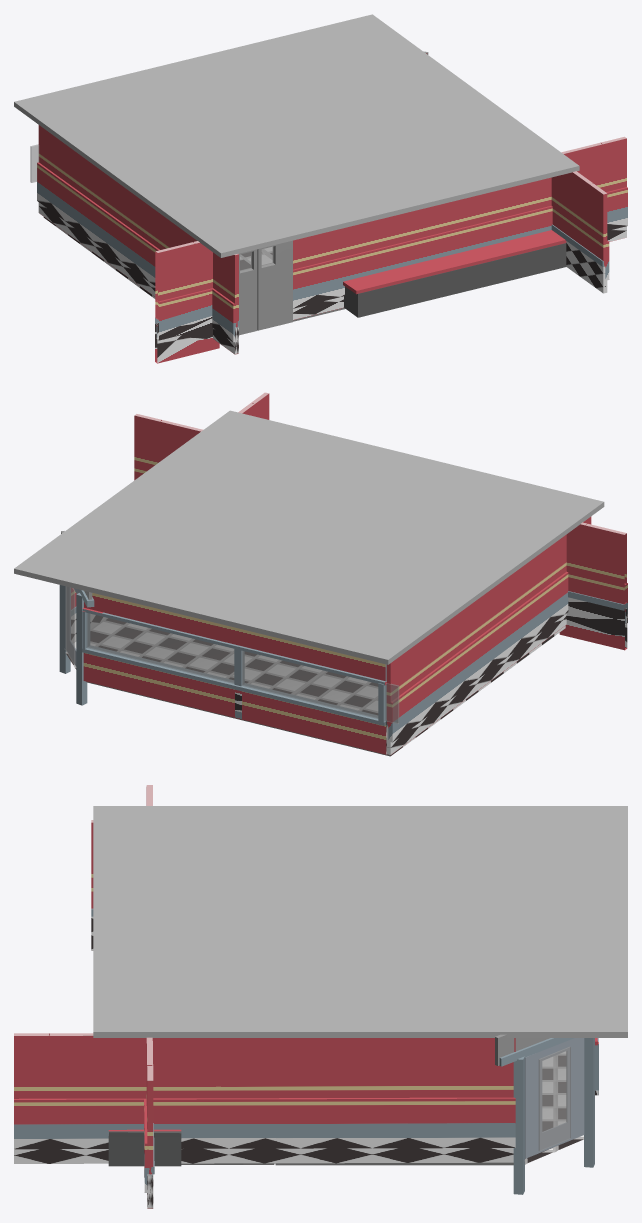
File: Diner Day 1.fbx
3 views of the same model, one above another, from view 1: azimuth 30°, elevation 25°; view 2: azimuth 150°, elevation 25°; view 3: azimuth 270°, elevation 25° (orthographic). The views are drawn at different scales.
Parts seen in each view (by area): view 1: pPlane6, pCube66, pCube24, pCube29, pCube67, pCube68, pCube32, pCube72, pPlane5; view 2: pPlane6, pCube16, pCube24, pPlane5, pCube67, pCube70, pCube69, pCube66, pCube68, pCube17, pCube71, pCube18 (+1 smaller); view 3: pPlane6, pCube68, pCube27, pCube71, pPlane5, pCube29, pCube66, pCube18, pCube17, pCube26, pCube25.
Part boxes in pixels (bbox=[...]): pPlane6: bbox=[14, 14, 579, 257]; pCube66: bbox=[293, 136, 627, 319]; pCube24: bbox=[37, 125, 239, 354]; pCube29: bbox=[343, 230, 566, 317]; pCube67: bbox=[155, 241, 219, 363]; pCube68: bbox=[551, 171, 609, 293]; pCube32: bbox=[257, 240, 292, 330]; pCube72: bbox=[239, 249, 257, 335]; pPlane5: bbox=[43, 217, 345, 321]; pPlane6: bbox=[14, 410, 604, 664]; pCube16: bbox=[82, 593, 386, 754]; pCube24: bbox=[386, 516, 591, 755]; pPlane5: bbox=[65, 618, 565, 756]; pCube67: bbox=[559, 522, 627, 650]; pCube70: bbox=[242, 651, 399, 723]; pCube69: bbox=[87, 613, 234, 683]; pCube66: bbox=[134, 414, 203, 480]; pCube68: bbox=[71, 392, 269, 642]; pCube17: bbox=[76, 593, 87, 705]; pCube71: bbox=[65, 586, 75, 665]; pCube18: bbox=[59, 585, 70, 673]; pPlane6: bbox=[93, 806, 627, 1037]; pCube68: bbox=[14, 1033, 515, 1163]; pCube27: bbox=[525, 1038, 584, 1158]; pCube71: bbox=[538, 1047, 570, 1151]; pPlane5: bbox=[181, 1051, 583, 1165]; pCube29: bbox=[108, 1129, 181, 1166]; pCube66: bbox=[144, 1037, 154, 1208]; pCube18: bbox=[513, 1056, 524, 1194]; pCube17: bbox=[584, 1038, 594, 1167]; pCube26: bbox=[495, 1034, 549, 1065]; pCube25: bbox=[499, 1038, 574, 1066].
Bounding box in the file's own units: 57.9 × 15.05 × 50.75.
